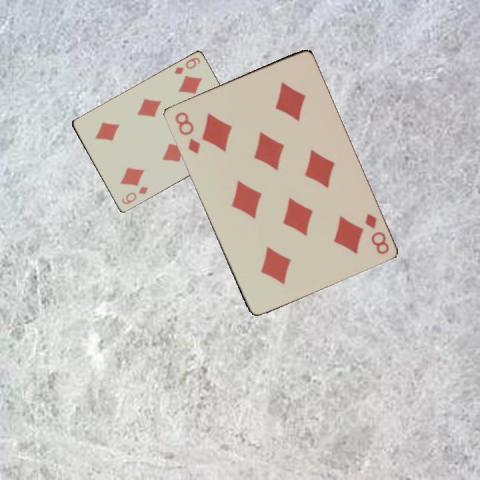6d: (119, 184, 149, 206), (171, 55, 201, 76)
8d: (172, 109, 202, 156), (361, 210, 391, 256)
